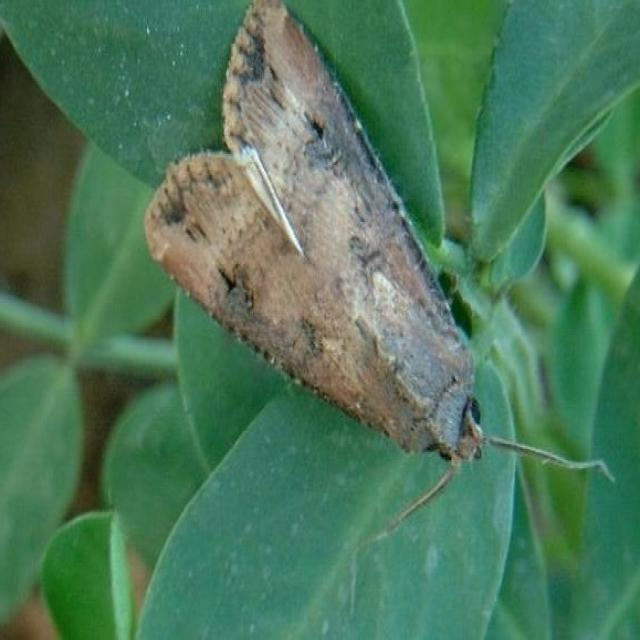black cutworm: (121, 1, 513, 507)
